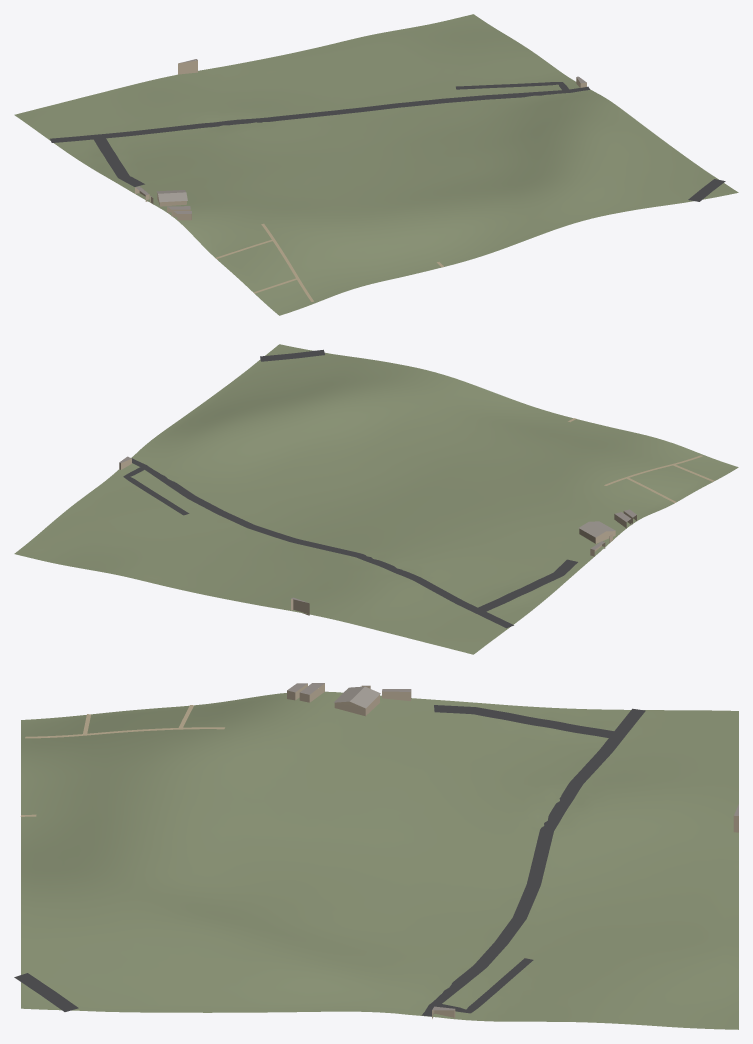
3 renders of one model, top to bottom at view 1: azimuth 30°, elevation 25°; view 2: azimuth 150°, elevation 25°; view 3: azimuth 270°, elevation 25°, orthographic. The views are drawn at different scales.
Parts seen in each view (by area): view 1: ground, road, walls, path; view 2: ground, road, walls; view 3: ground, road, walls, path, sheetRoofs.
Boxes of the visible parts, x1=… form: ground: x1=14, y1=14, x2=738, y2=315; road: x1=50, y1=82, x2=725, y2=201; walls: x1=135, y1=60, x2=586, y2=220; path: x1=216, y1=223, x2=443, y2=301; ground: x1=14, y1=344, x2=738, y2=654; road: x1=123, y1=349, x2=577, y2=628; walls: x1=119, y1=458, x2=636, y2=615; ground: x1=21, y1=691, x2=738, y2=1029; road: x1=14, y1=705, x2=645, y2=1016; walls: x1=287, y1=683, x2=738, y2=1018; path: x1=20, y1=705, x2=224, y2=816; sheetRoofs: x1=334, y1=686, x2=380, y2=708.
Size of the model in its own units: 253 by 16.76 by 252.
